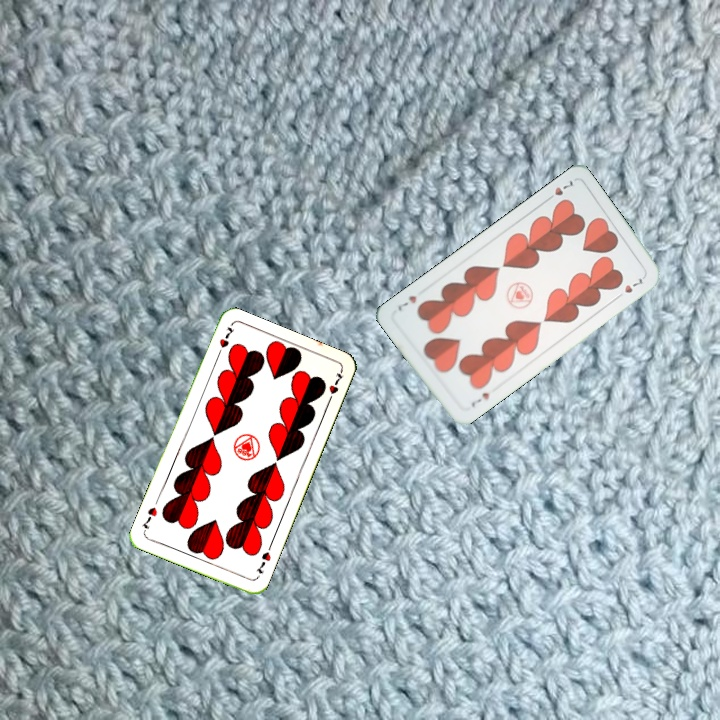H7: (541, 176, 576, 205), (213, 323, 236, 360), (252, 548, 273, 576), (467, 388, 492, 410)
